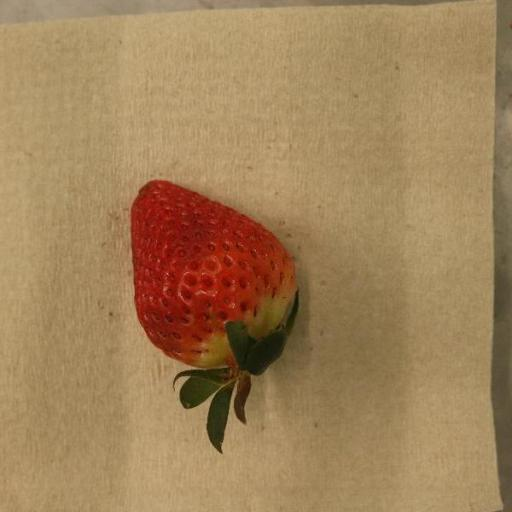Strawberry: (131, 180, 297, 455)
